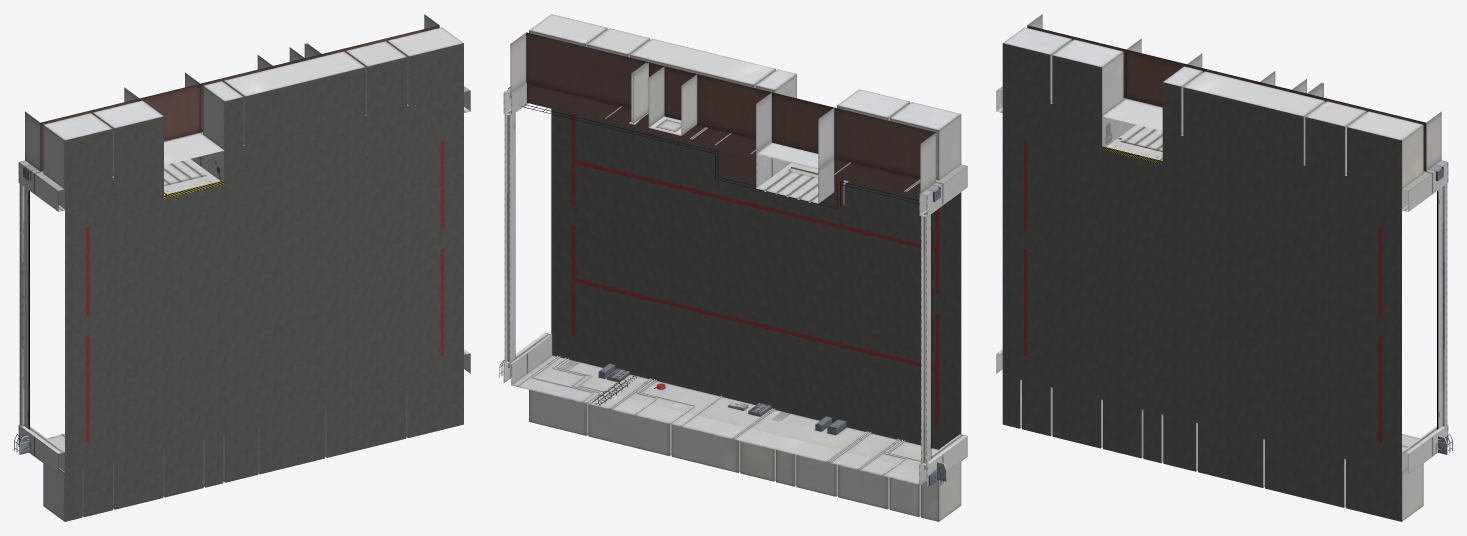
Rendered from hangarCentre.fbx.
The picture shows the model from 3 angles, left to right: view 1: azimuth 30°, elevation 25°; view 2: azimuth 150°, elevation 25°; view 3: azimuth 330°, elevation 25°; orthographic projection. The views are drawn at different scales.
Parts seen in each view (by area): view 1: ShapeIndexedFaceSet_008, ShapeIndexedFaceSet_005, ShapeIndexedFaceSet_007, ShapeIndexedFaceSet_009, ShapeIndexedFaceSet_004, ShapeIndexedFaceSet_001, ShapeIndexedFaceSet_010; view 2: ShapeIndexedFaceSet_008, ShapeIndexedFaceSet_005, ShapeIndexedFaceSet_001, ShapeIndexedFaceSet_007, ShapeIndexedFaceSet_009, ShapeIndexedFaceSet_004, ShapeIndexedFaceSet_010, ShapeIndexedFaceSet_006, ShapeIndexedFaceSet; view 3: ShapeIndexedFaceSet_008, ShapeIndexedFaceSet_005, ShapeIndexedFaceSet_007, ShapeIndexedFaceSet_009, ShapeIndexedFaceSet_004, ShapeIndexedFaceSet_001, ShapeIndexedFaceSet_010.
Part boxes in pixels (x1,y1,x2,y2): ShapeIndexedFaceSet_008: (65, 43, 463, 521); ShapeIndexedFaceSet_005: (25, 14, 463, 521); ShapeIndexedFaceSet_007: (14, 304, 470, 473); ShapeIndexedFaceSet_009: (18, 86, 470, 305); ShapeIndexedFaceSet_004: (164, 150, 224, 195); ShapeIndexedFaceSet_001: (86, 140, 444, 442); ShapeIndexedFaceSet_010: (24, 187, 28, 428); ShapeIndexedFaceSet_008: (551, 109, 961, 449); ShapeIndexedFaceSet_005: (510, 14, 961, 521); ShapeIndexedFaceSet_001: (571, 113, 939, 435); ShapeIndexedFaceSet_007: (499, 236, 967, 486); ShapeIndexedFaceSet_009: (503, 82, 967, 340); ShapeIndexedFaceSet_004: (756, 154, 848, 203); ShapeIndexedFaceSet_010: (508, 110, 930, 469); ShapeIndexedFaceSet_006: (517, 106, 920, 484); ShapeIndexedFaceSet: (562, 360, 790, 421); ShapeIndexedFaceSet_008: (1002, 43, 1401, 521); ShapeIndexedFaceSet_005: (1003, 14, 1441, 521); ShapeIndexedFaceSet_007: (996, 304, 1452, 473); ShapeIndexedFaceSet_009: (996, 86, 1448, 305); ShapeIndexedFaceSet_004: (1102, 116, 1162, 161); ShapeIndexedFaceSet_001: (1024, 140, 1382, 442); ShapeIndexedFaceSet_010: (1438, 187, 1442, 428).
Size of the model in its own units: 46.74 by 39.6 by 7.52.
